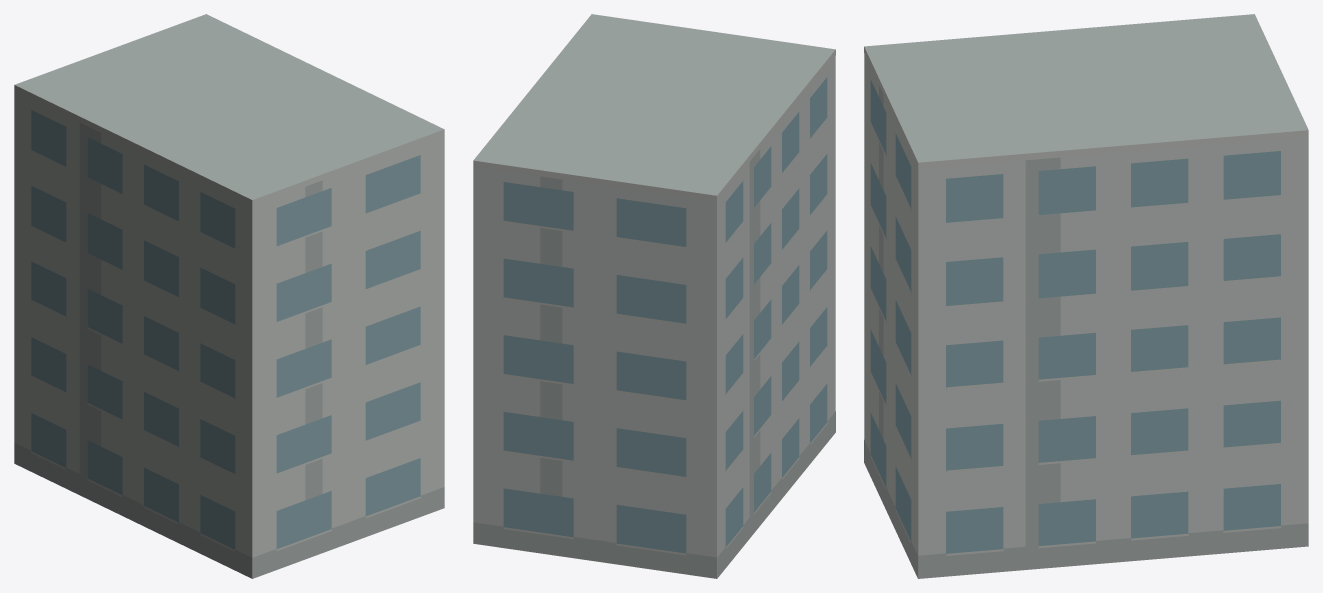
File: residential-592f7daf-a7bf-4f82-8063-70e43e52a166.glb
3 renders of one model, left to right at view 1: azimuth 30°, elevation 25°; view 2: azimuth 150°, elevation 25°; view 3: azimuth 270°, elevation 25°, orthographic. The views are drawn at different scales.
Parts seen in each view (by area): view 1: residential-592f7daf-a7bf-4f82-8063-70e43e52a166.tmp; view 2: residential-592f7daf-a7bf-4f82-8063-70e43e52a166.tmp; view 3: residential-592f7daf-a7bf-4f82-8063-70e43e52a166.tmp.
Boxes of the visible parts, <box> form: residential-592f7daf-a7bf-4f82-8063-70e43e52a166.tmp: <box>14,14,444,578</box>; residential-592f7daf-a7bf-4f82-8063-70e43e52a166.tmp: <box>473,14,835,578</box>; residential-592f7daf-a7bf-4f82-8063-70e43e52a166.tmp: <box>864,14,1308,578</box>.
Bounding box in the file's own units: 11.69 × 15.25 × 14.77.
